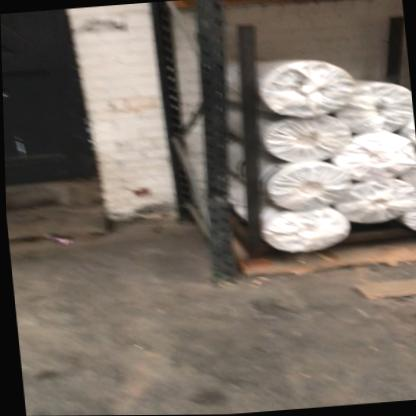vertical_damage: (193, 171, 245, 229)
